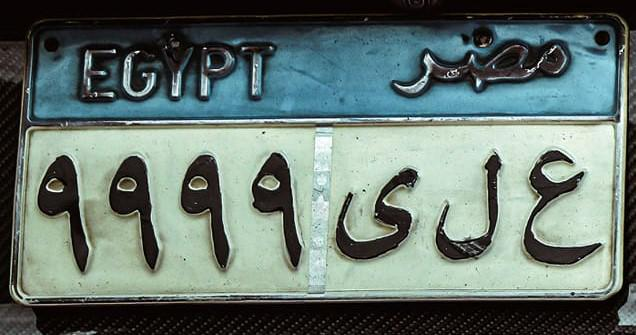9: (235, 124, 320, 273), (25, 135, 100, 280), (101, 116, 171, 268), (179, 136, 232, 265)
ع: (519, 126, 588, 254)
ل: (411, 140, 513, 273)
ي: (332, 149, 428, 262)
